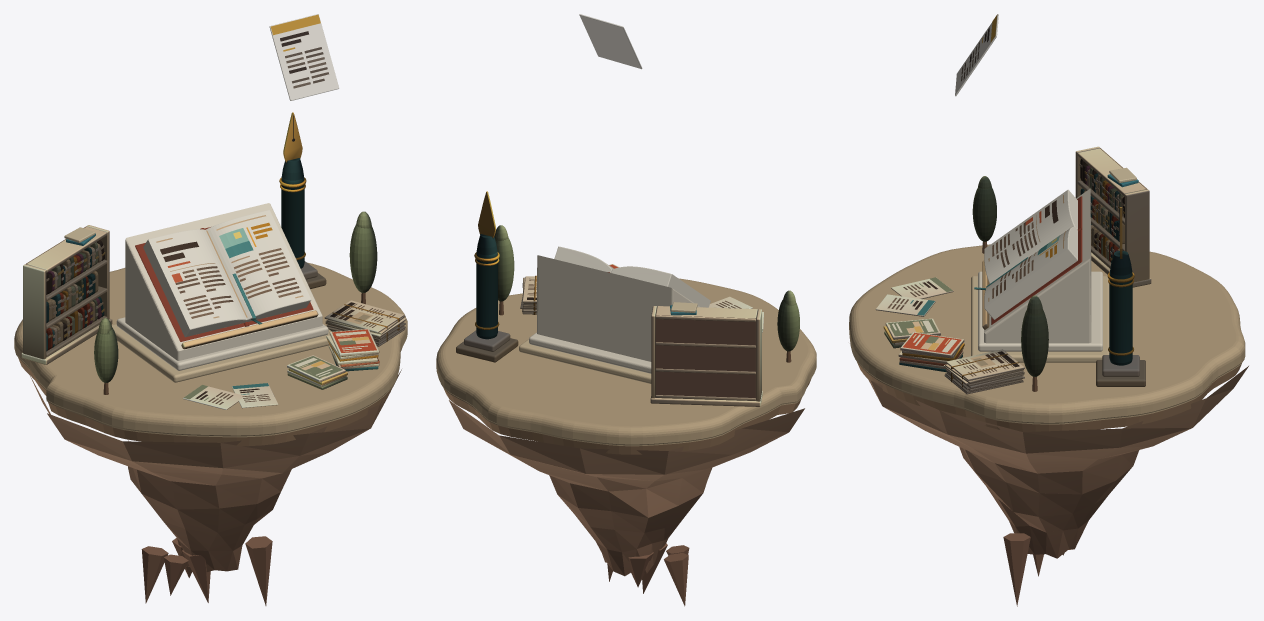
Rendered from baked-2.glb.
3 views of the same model, side by side, from view 1: azimuth 30°, elevation 25°; view 2: azimuth 150°, elevation 25°; view 3: azimuth 270°, elevation 25° (orthographic). The views are drawn at different scales.
Parts seen in each view (by area): view 1: lm.001, vl.001; view 2: lm.001, vl.001; view 3: lm.001, vl.001.
Boxes of the visible parts, left/top/right/bottom form: lm.001: left=14, top=14, right=407, bottom=605; vl.001: left=21, top=112, right=406, bottom=409; lm.001: left=436, top=14, right=816, bottom=606; vl.001: left=456, top=191, right=799, bottom=406; lm.001: left=849, top=14, right=1248, bottom=606; vl.001: left=875, top=146, right=1151, bottom=394.
Bounding box in the file's own units: 14.83 × 23.49 × 14.45.
